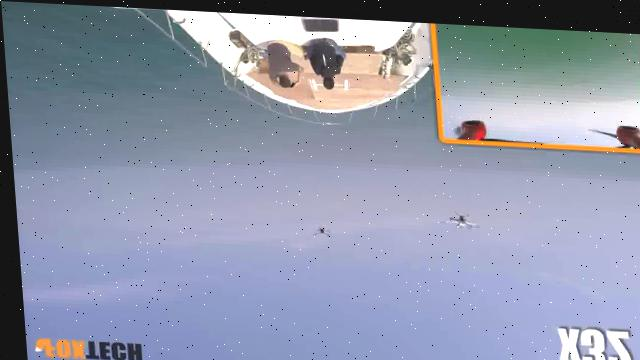drone: (296, 214, 333, 239)
